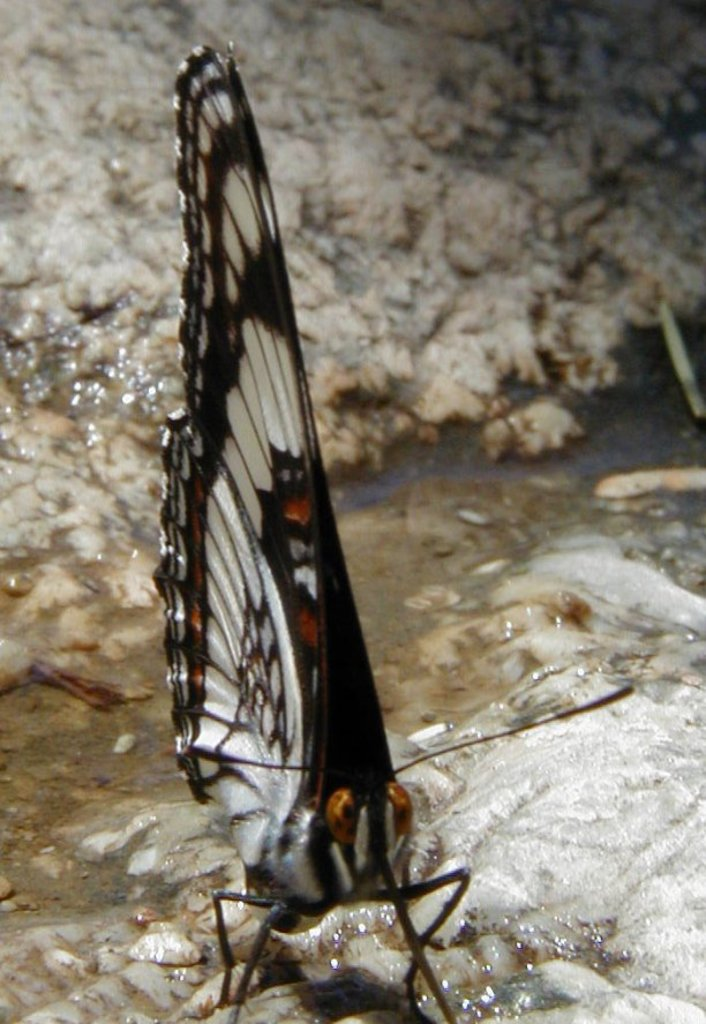Butterfly: (131, 37, 470, 988)
